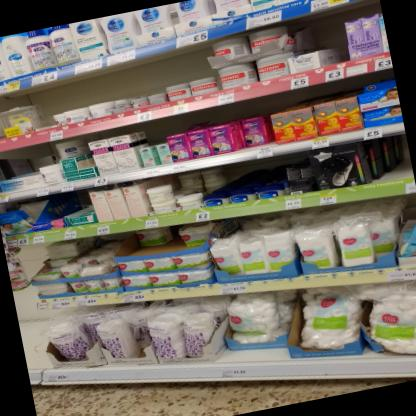empty_space: (12, 289, 46, 368), (365, 133, 411, 183), (22, 83, 58, 132)
